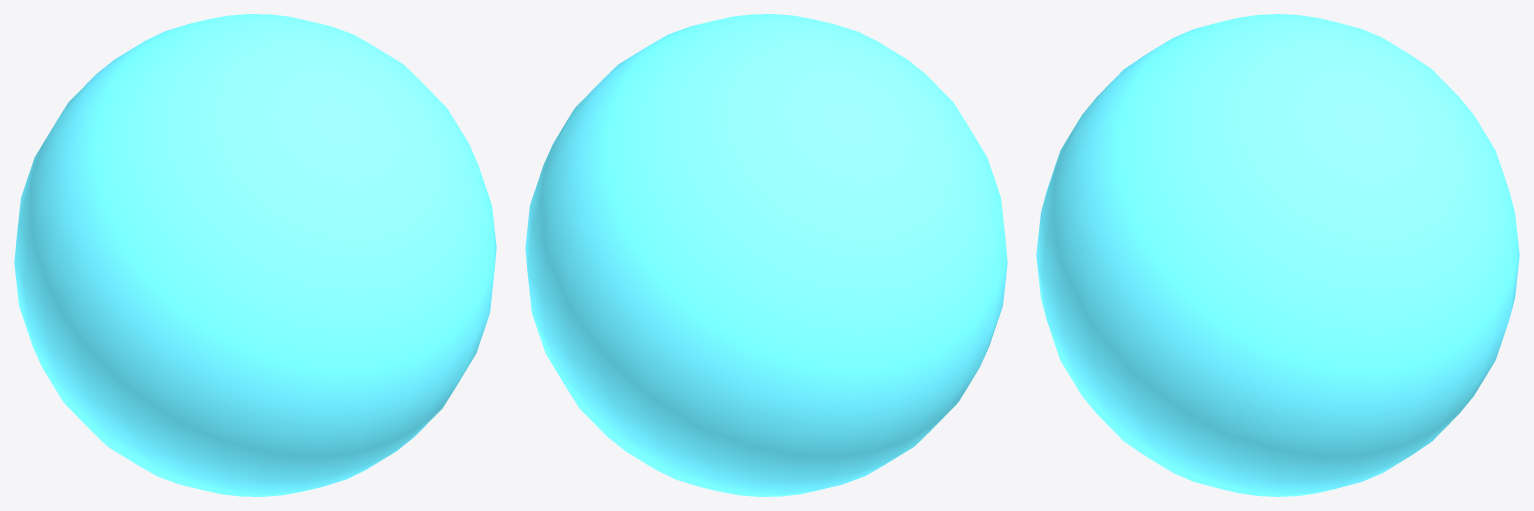
The model's file is Orb_05_青蓝灵珠.glb.
3 views of the same model, side by side, from view 1: azimuth 30°, elevation 25°; view 2: azimuth 150°, elevation 25°; view 3: azimuth 270°, elevation 25° (orthographic).
Visible parts, largest first — view 1: Sphere; view 2: Sphere; view 3: Sphere.
Part boxes in pixels (left/top/right/bottom): Sphere: left=14, top=14, right=496, bottom=496; Sphere: left=525, top=14, right=1007, bottom=496; Sphere: left=1036, top=14, right=1519, bottom=496.
Size of the model in its own units: 0.96 by 0.96 by 0.96.
